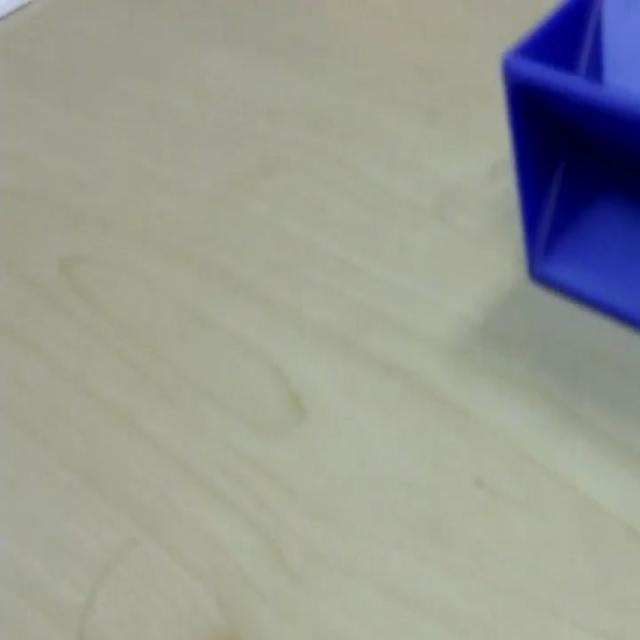blue_block: (499, 0, 638, 329)
